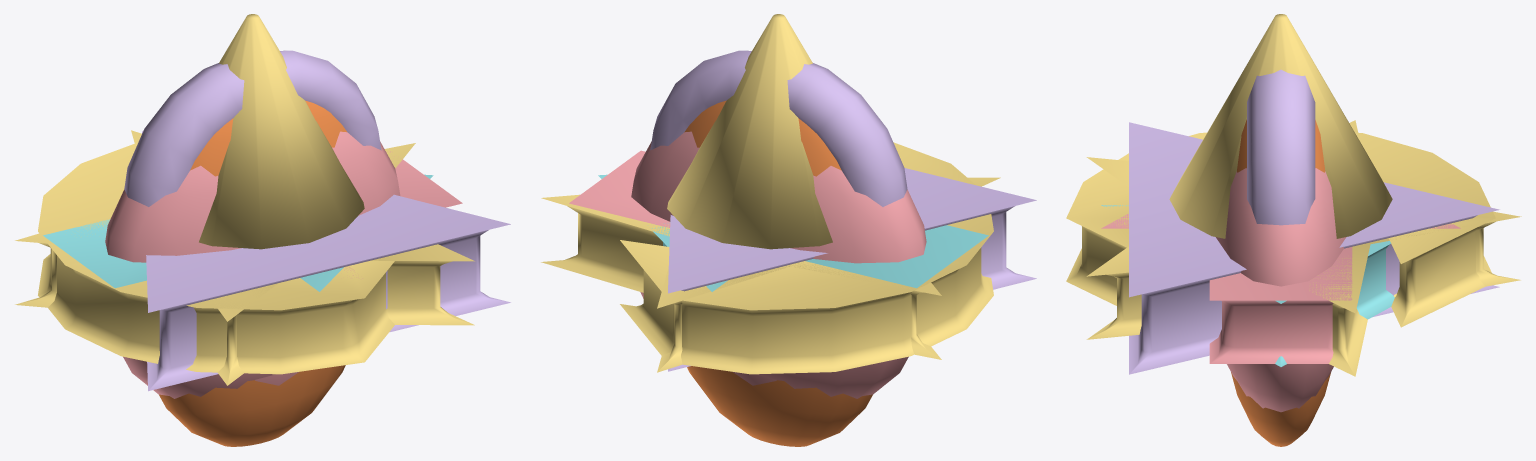
Rendered from dungeon_pictograms.glb.
The picture shows the model from 3 angles, left to right: view 1: azimuth 30°, elevation 25°; view 2: azimuth 150°, elevation 25°; view 3: azimuth 270°, elevation 25°; orthographic projection.
Parts seen in each view (by area): view 1: Fixed_Detail.012, Fixed_Detail.015, Fixed_Detail.021, Fixed_Detail.018, Fixed_Detail.016, Fixed_Detail.020, Fixed_Detail.014, Fixed_Detail.019; view 2: Fixed_Detail.015, Fixed_Detail.012, Fixed_Detail.016, Fixed_Detail.018, Fixed_Detail.021, Fixed_Detail.020, Fixed_Detail.014, Fixed_Detail.019; view 3: Fixed_Detail.021, Fixed_Detail.012, Fixed_Detail.015, Fixed_Detail.016, Fixed_Detail.019, Fixed_Detail.018, Fixed_Detail.020, Fixed_Detail.014.
Part boxes in pixels (<box>): Fixed_Detail.012: <box>159,14,364,446</box>; Fixed_Detail.015: <box>38,142,394,374</box>; Fixed_Detail.021: <box>142,131,510,391</box>; Fixed_Detail.018: <box>124,50,381,206</box>; Fixed_Detail.016: <box>105,131,400,398</box>; Fixed_Detail.020: <box>15,130,474,385</box>; Fixed_Detail.014: <box>43,174,433,291</box>; Fixed_Detail.019: <box>344,151,462,278</box>; Fixed_Detail.015: <box>620,142,993,374</box>; Fixed_Detail.012: <box>667,14,872,446</box>; Fixed_Detail.016: <box>631,131,926,398</box>; Fixed_Detail.018: <box>650,50,907,206</box>; Fixed_Detail.021: <box>668,168,1036,371</box>; Fixed_Detail.020: <box>541,177,1000,372</box>; Fixed_Detail.014: <box>598,174,988,291</box>; Fixed_Detail.019: <box>569,150,670,227</box>; Fixed_Detail.021: <box>1129,122,1499,374</box>; Fixed_Detail.012: <box>1169,14,1392,446</box>; Fixed_Detail.015: <box>1066,132,1495,327</box>; Fixed_Detail.016: <box>1216,168,1346,412</box>; Fixed_Detail.019: <box>1101,214,1460,363</box>; Fixed_Detail.018: <box>1247,69,1315,225</box>; Fixed_Detail.020: <box>1086,120,1521,376</box>; Fixed_Detail.014: <box>1101,205,1394,366</box>.
Bounding box in the file's own units: 2.95 × 3 × 2.94.
